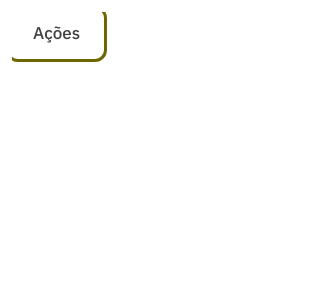
DropdownMenu › opens with the keyboard and runs an item
Press Enter
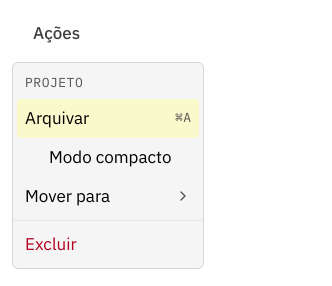
Expected: the menu item "Arquivar ⌘A" is shown, [17,98,199,138]
Click the menu item "Excluir" at x=51, y=244, box [25,233,77,255]
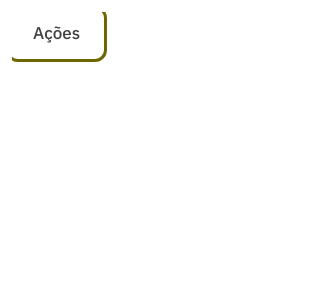
Expected: the menu is gone
